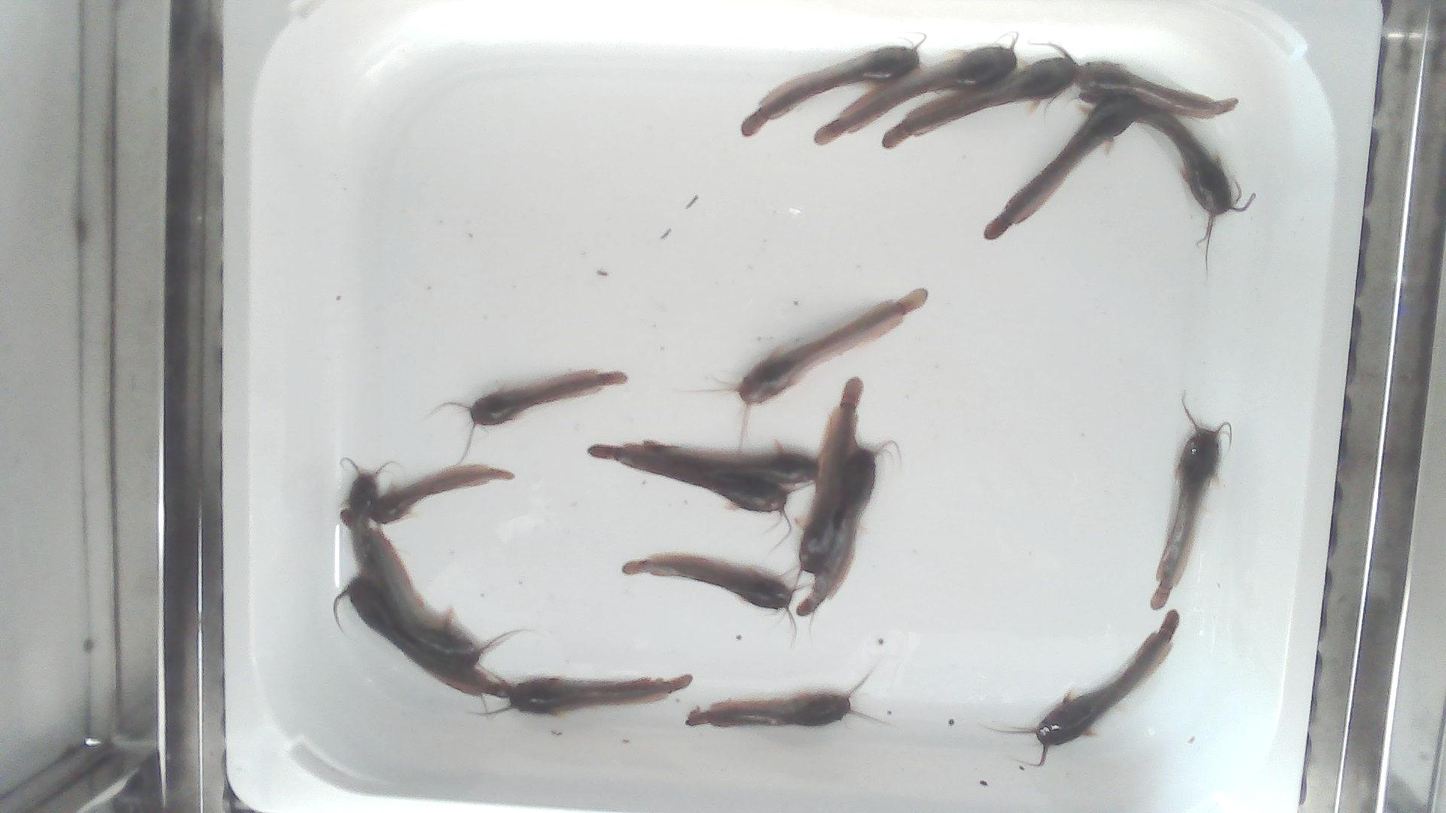lele: (708, 288, 927, 449), (1076, 92, 1258, 276), (980, 89, 1150, 241), (585, 442, 812, 555), (1015, 611, 1179, 766), (813, 28, 1020, 148), (331, 573, 506, 698), (880, 40, 1077, 149), (740, 30, 930, 138), (795, 436, 905, 617), (441, 370, 627, 463), (363, 530, 481, 673), (1150, 397, 1229, 609), (792, 373, 866, 587), (685, 662, 879, 727), (622, 553, 794, 612), (1072, 61, 1241, 118), (365, 463, 516, 525), (643, 436, 818, 489), (473, 674, 692, 715), (337, 456, 405, 579)
